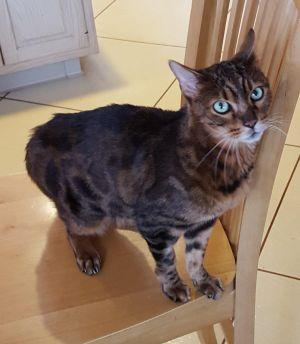bengal: (157, 26, 290, 152)
